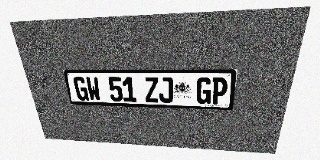1: (121, 77, 136, 102)
5: (108, 77, 123, 101)
G: (196, 77, 212, 104), (73, 77, 89, 101)
J: (159, 77, 173, 103)
P: (211, 77, 228, 104)
W: (85, 77, 101, 101)
Z: (144, 77, 159, 102)
